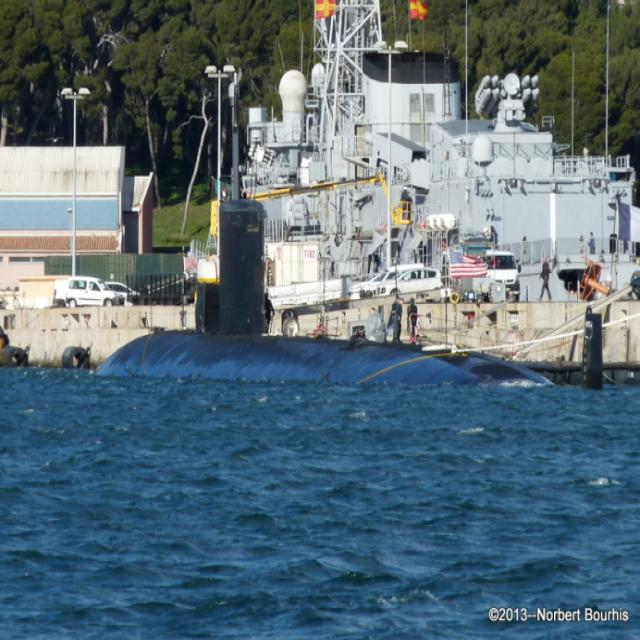submarine: (104, 91, 559, 388)
